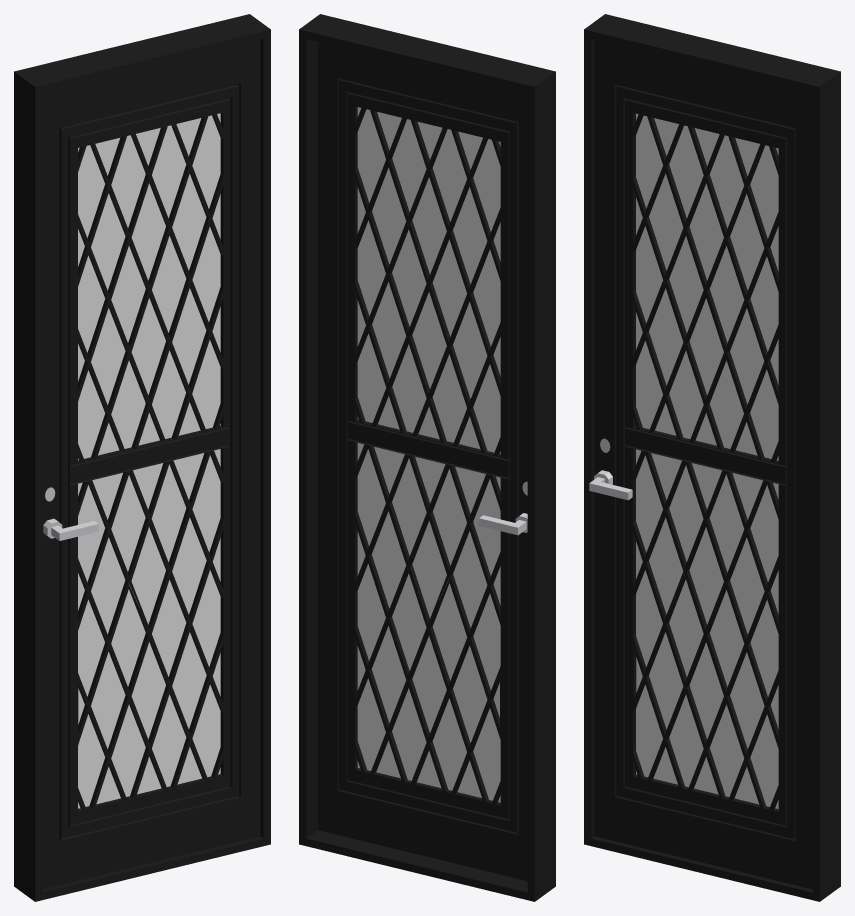
The model's file is SM_BackDoor_5.fbx.
3 views of the same model, side by side, from view 1: azimuth 30°, elevation 25°; view 2: azimuth 150°, elevation 25°; view 3: azimuth 330°, elevation 25° (orthographic).
Visible parts, largest first — view 1: SM_BackDoor_5; view 2: SM_BackDoor_5; view 3: SM_BackDoor_5.
Boxes of the visible parts, x1=… form: SM_BackDoor_5: x1=14, y1=14, x2=270, y2=901; SM_BackDoor_5: x1=299, y1=14, x2=555, y2=901; SM_BackDoor_5: x1=584, y1=14, x2=840, y2=901.
Size of the model in its own units: 0.645 by 2.13 by 0.154.
Materials: 3 (2 with a texture image).
